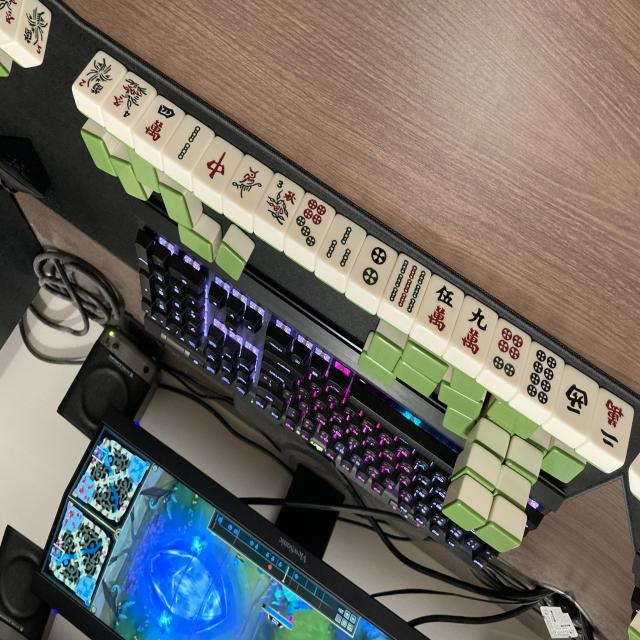f2: (75, 50, 126, 105), (11, 1, 55, 61)
ff3: (257, 176, 305, 232)
ff4: (101, 71, 156, 129)
m2: (583, 390, 639, 461)
m4: (134, 95, 186, 151)
m5: (416, 278, 468, 341)
m9: (448, 298, 500, 360)
s1: (225, 156, 274, 211)
s2: (164, 116, 214, 172)
s3: (320, 216, 369, 275)
s9: (381, 255, 433, 317)
t2: (348, 235, 399, 296)
t6: (483, 321, 535, 385)
t7: (287, 192, 338, 252)
t8: (515, 346, 566, 411)
west: (552, 367, 604, 434)
zhong: (194, 140, 243, 193)
